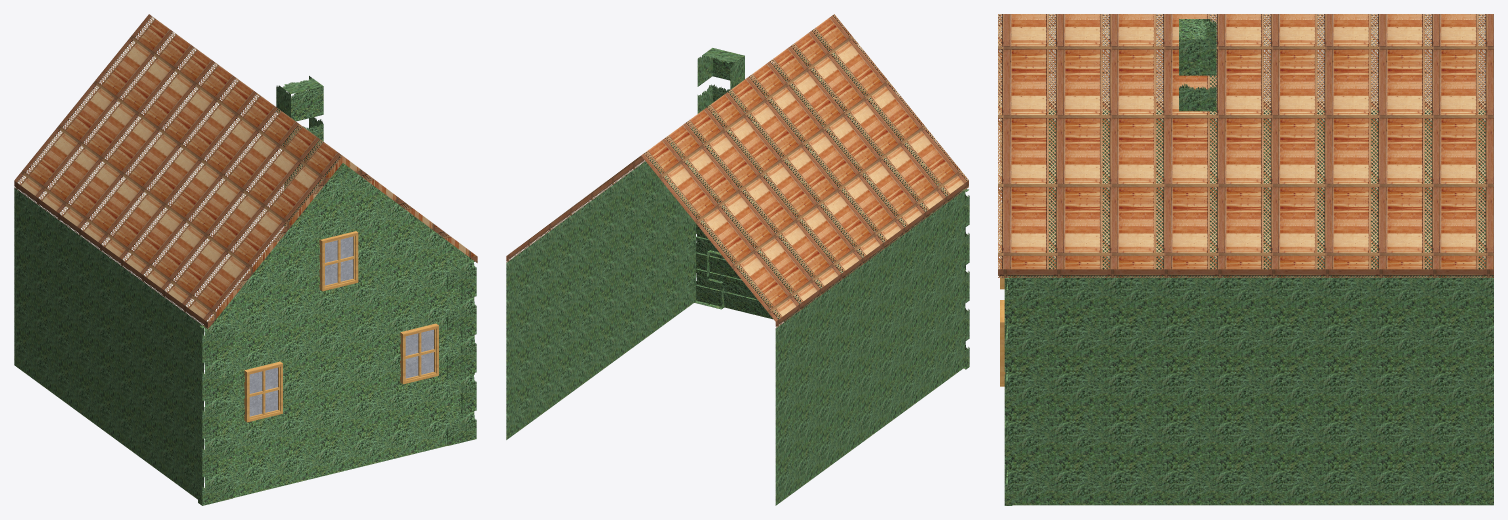
Rendered from BGHousse1.fbx.
3 views of the same model, side by side, from view 1: azimuth 30°, elevation 25°; view 2: azimuth 150°, elevation 25°; view 3: azimuth 270°, elevation 25° (orthographic). The views are drawn at different scales.
Parts seen in each view (by area): view 1: BGHousse1; view 2: BGHousse1; view 3: BGHousse1.
Boxes of the visible parts, x1,y1,x2,y2 form: BGHousse1: (14, 14, 477, 505); BGHousse1: (506, 14, 969, 505); BGHousse1: (998, 14, 1493, 505).
Bounding box in the file's own units: 754 × 850 × 923.
